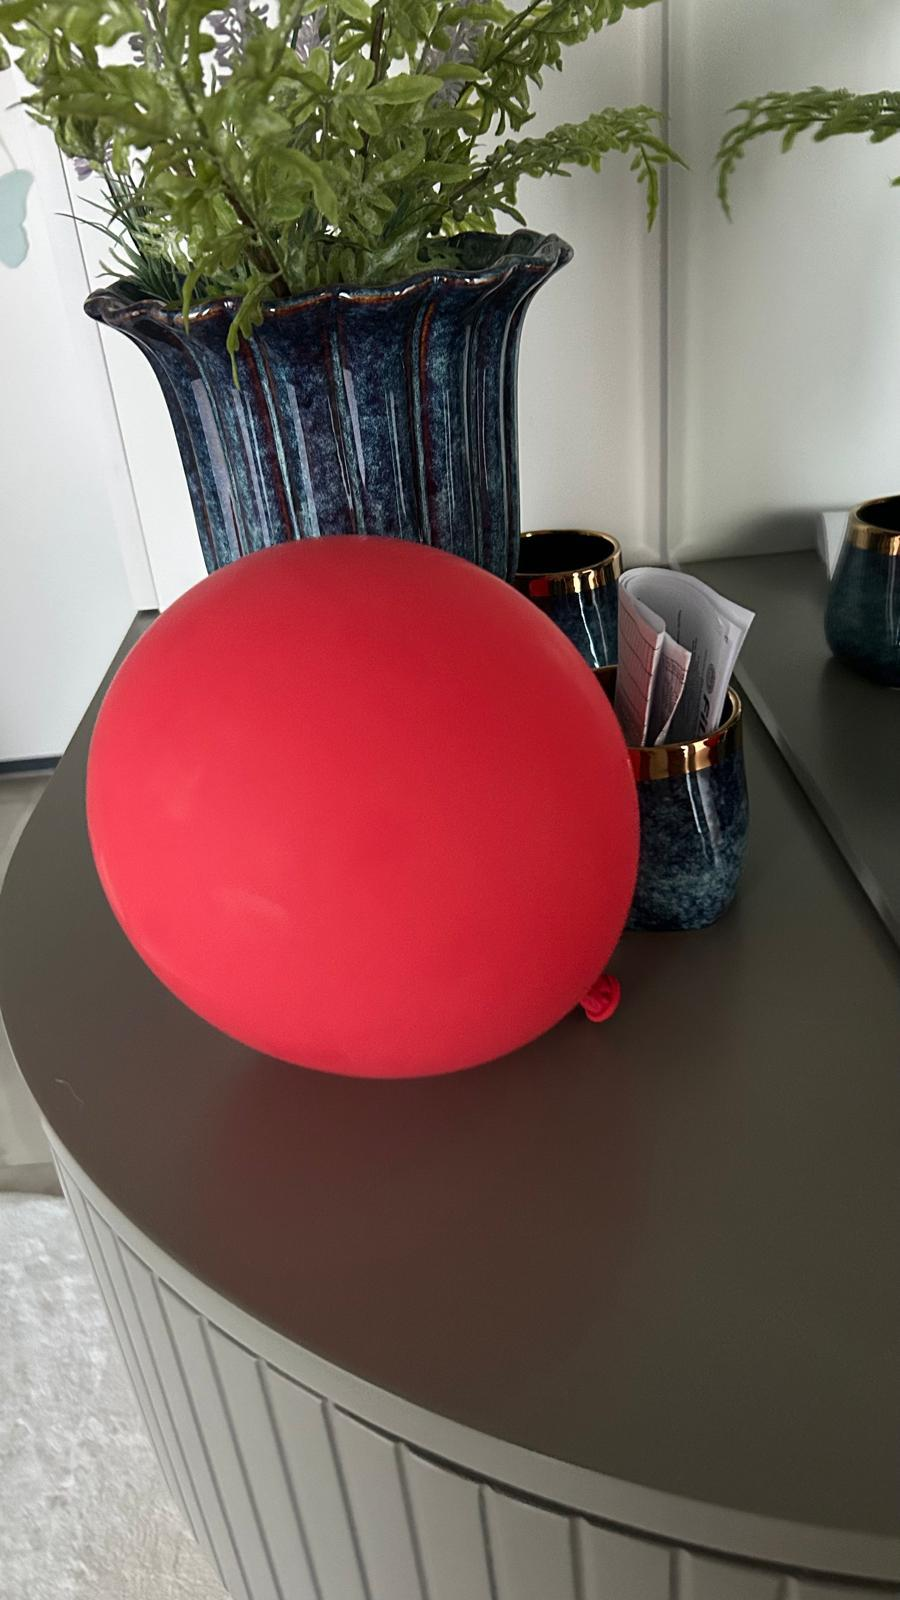red: (84, 524, 651, 1084)
